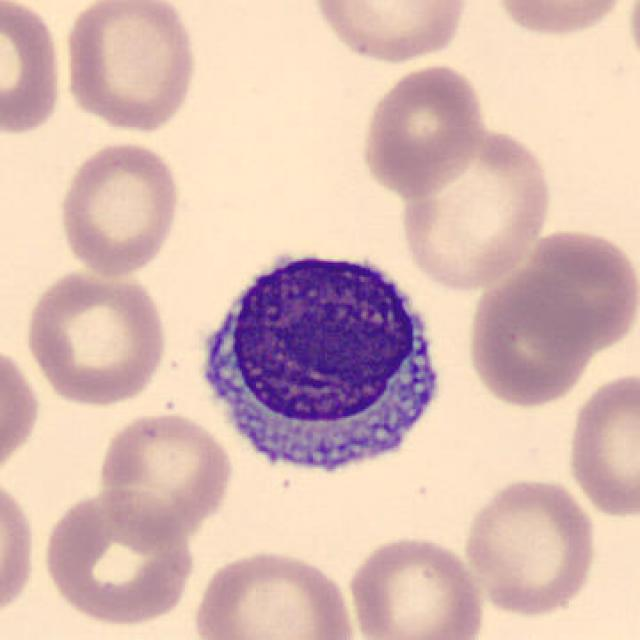Lymphocyte: (187, 234, 455, 492)
RBC: (394, 121, 556, 292), (39, 487, 199, 628), (21, 264, 171, 409), (461, 474, 599, 619), (95, 407, 236, 547), (59, 0, 201, 136), (464, 268, 596, 411), (53, 138, 185, 278), (357, 60, 489, 199), (189, 545, 359, 640), (519, 224, 638, 356), (345, 532, 489, 640), (562, 369, 638, 520), (307, 0, 473, 65), (0, 0, 67, 139), (0, 338, 43, 485), (0, 472, 39, 628), (487, 0, 635, 41)
